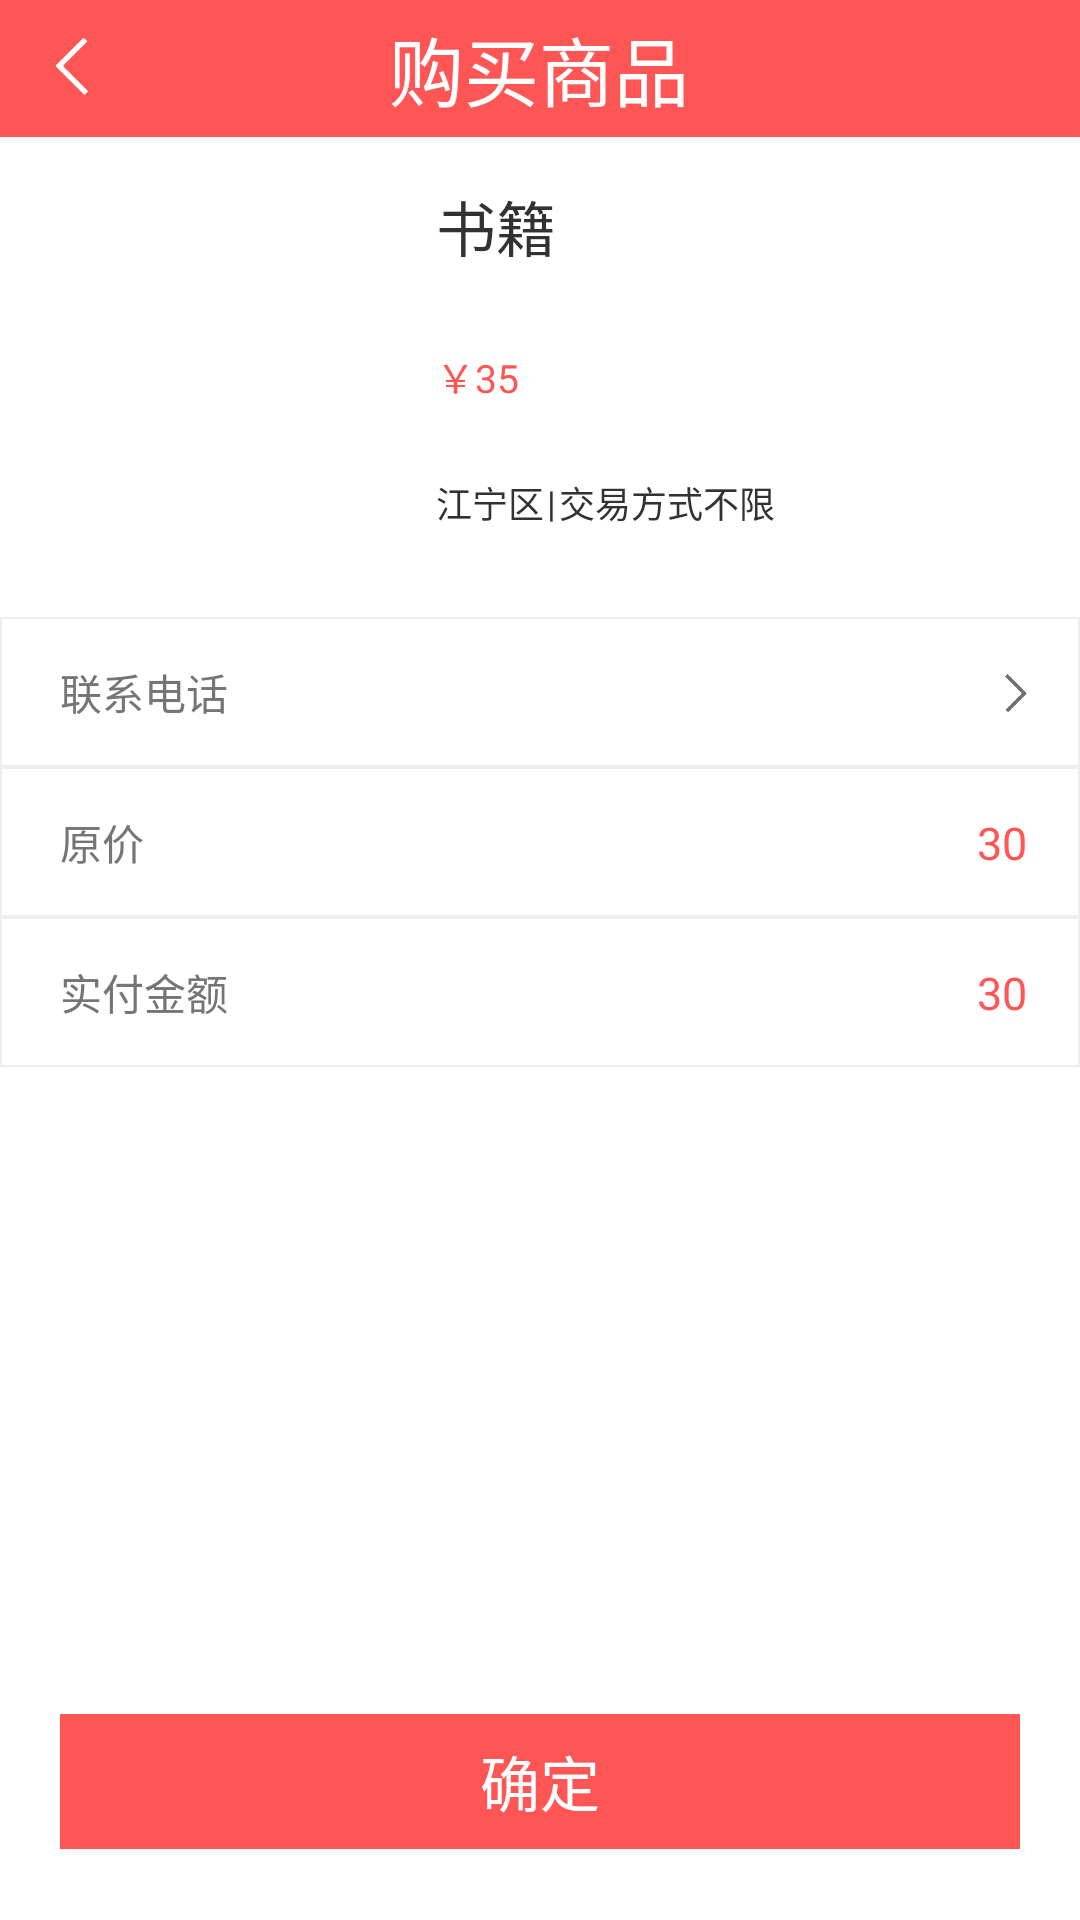

Icons on this 1080w x 1920h Android screen, each with the point to tap as (x=x, y=y):
jiantou: (x=1016, y=693)
jiantou left: (x=72, y=66)
